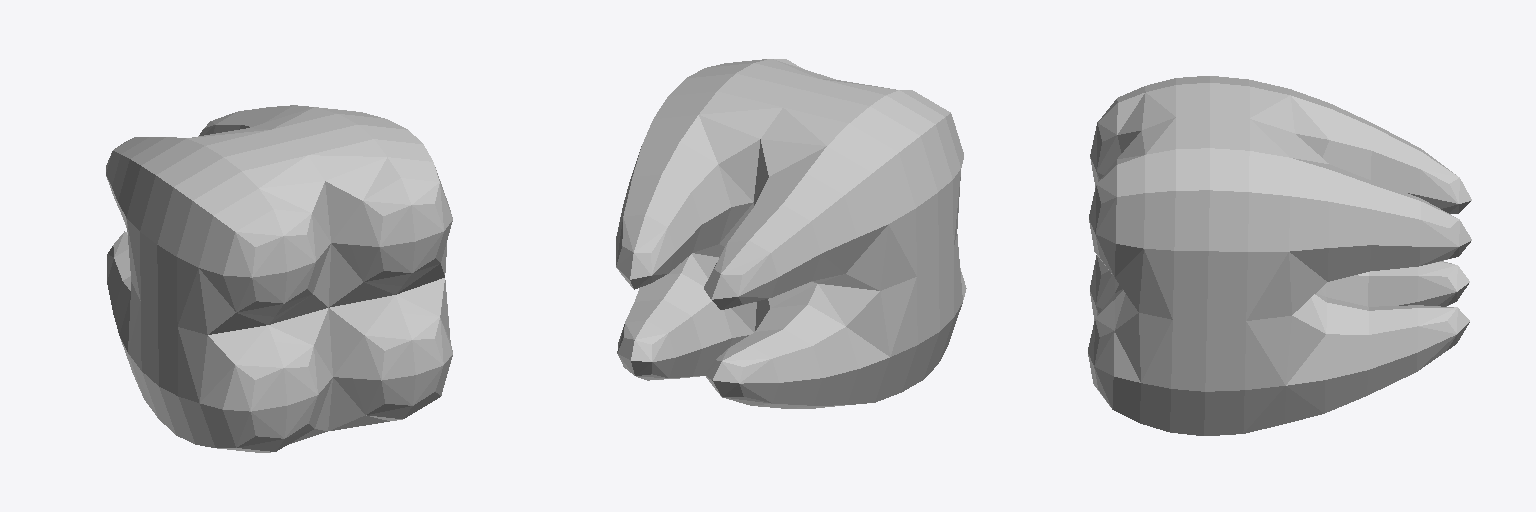
File: tooth.obj
3 renders of one model, left to right at view 1: azimuth 30°, elevation 25°; view 2: azimuth 150°, elevation 25°; view 3: azimuth 270°, elevation 25°, orthographic.
Bounding box in the file's own units: 0.2127 × 0.2127 × 0.2637.